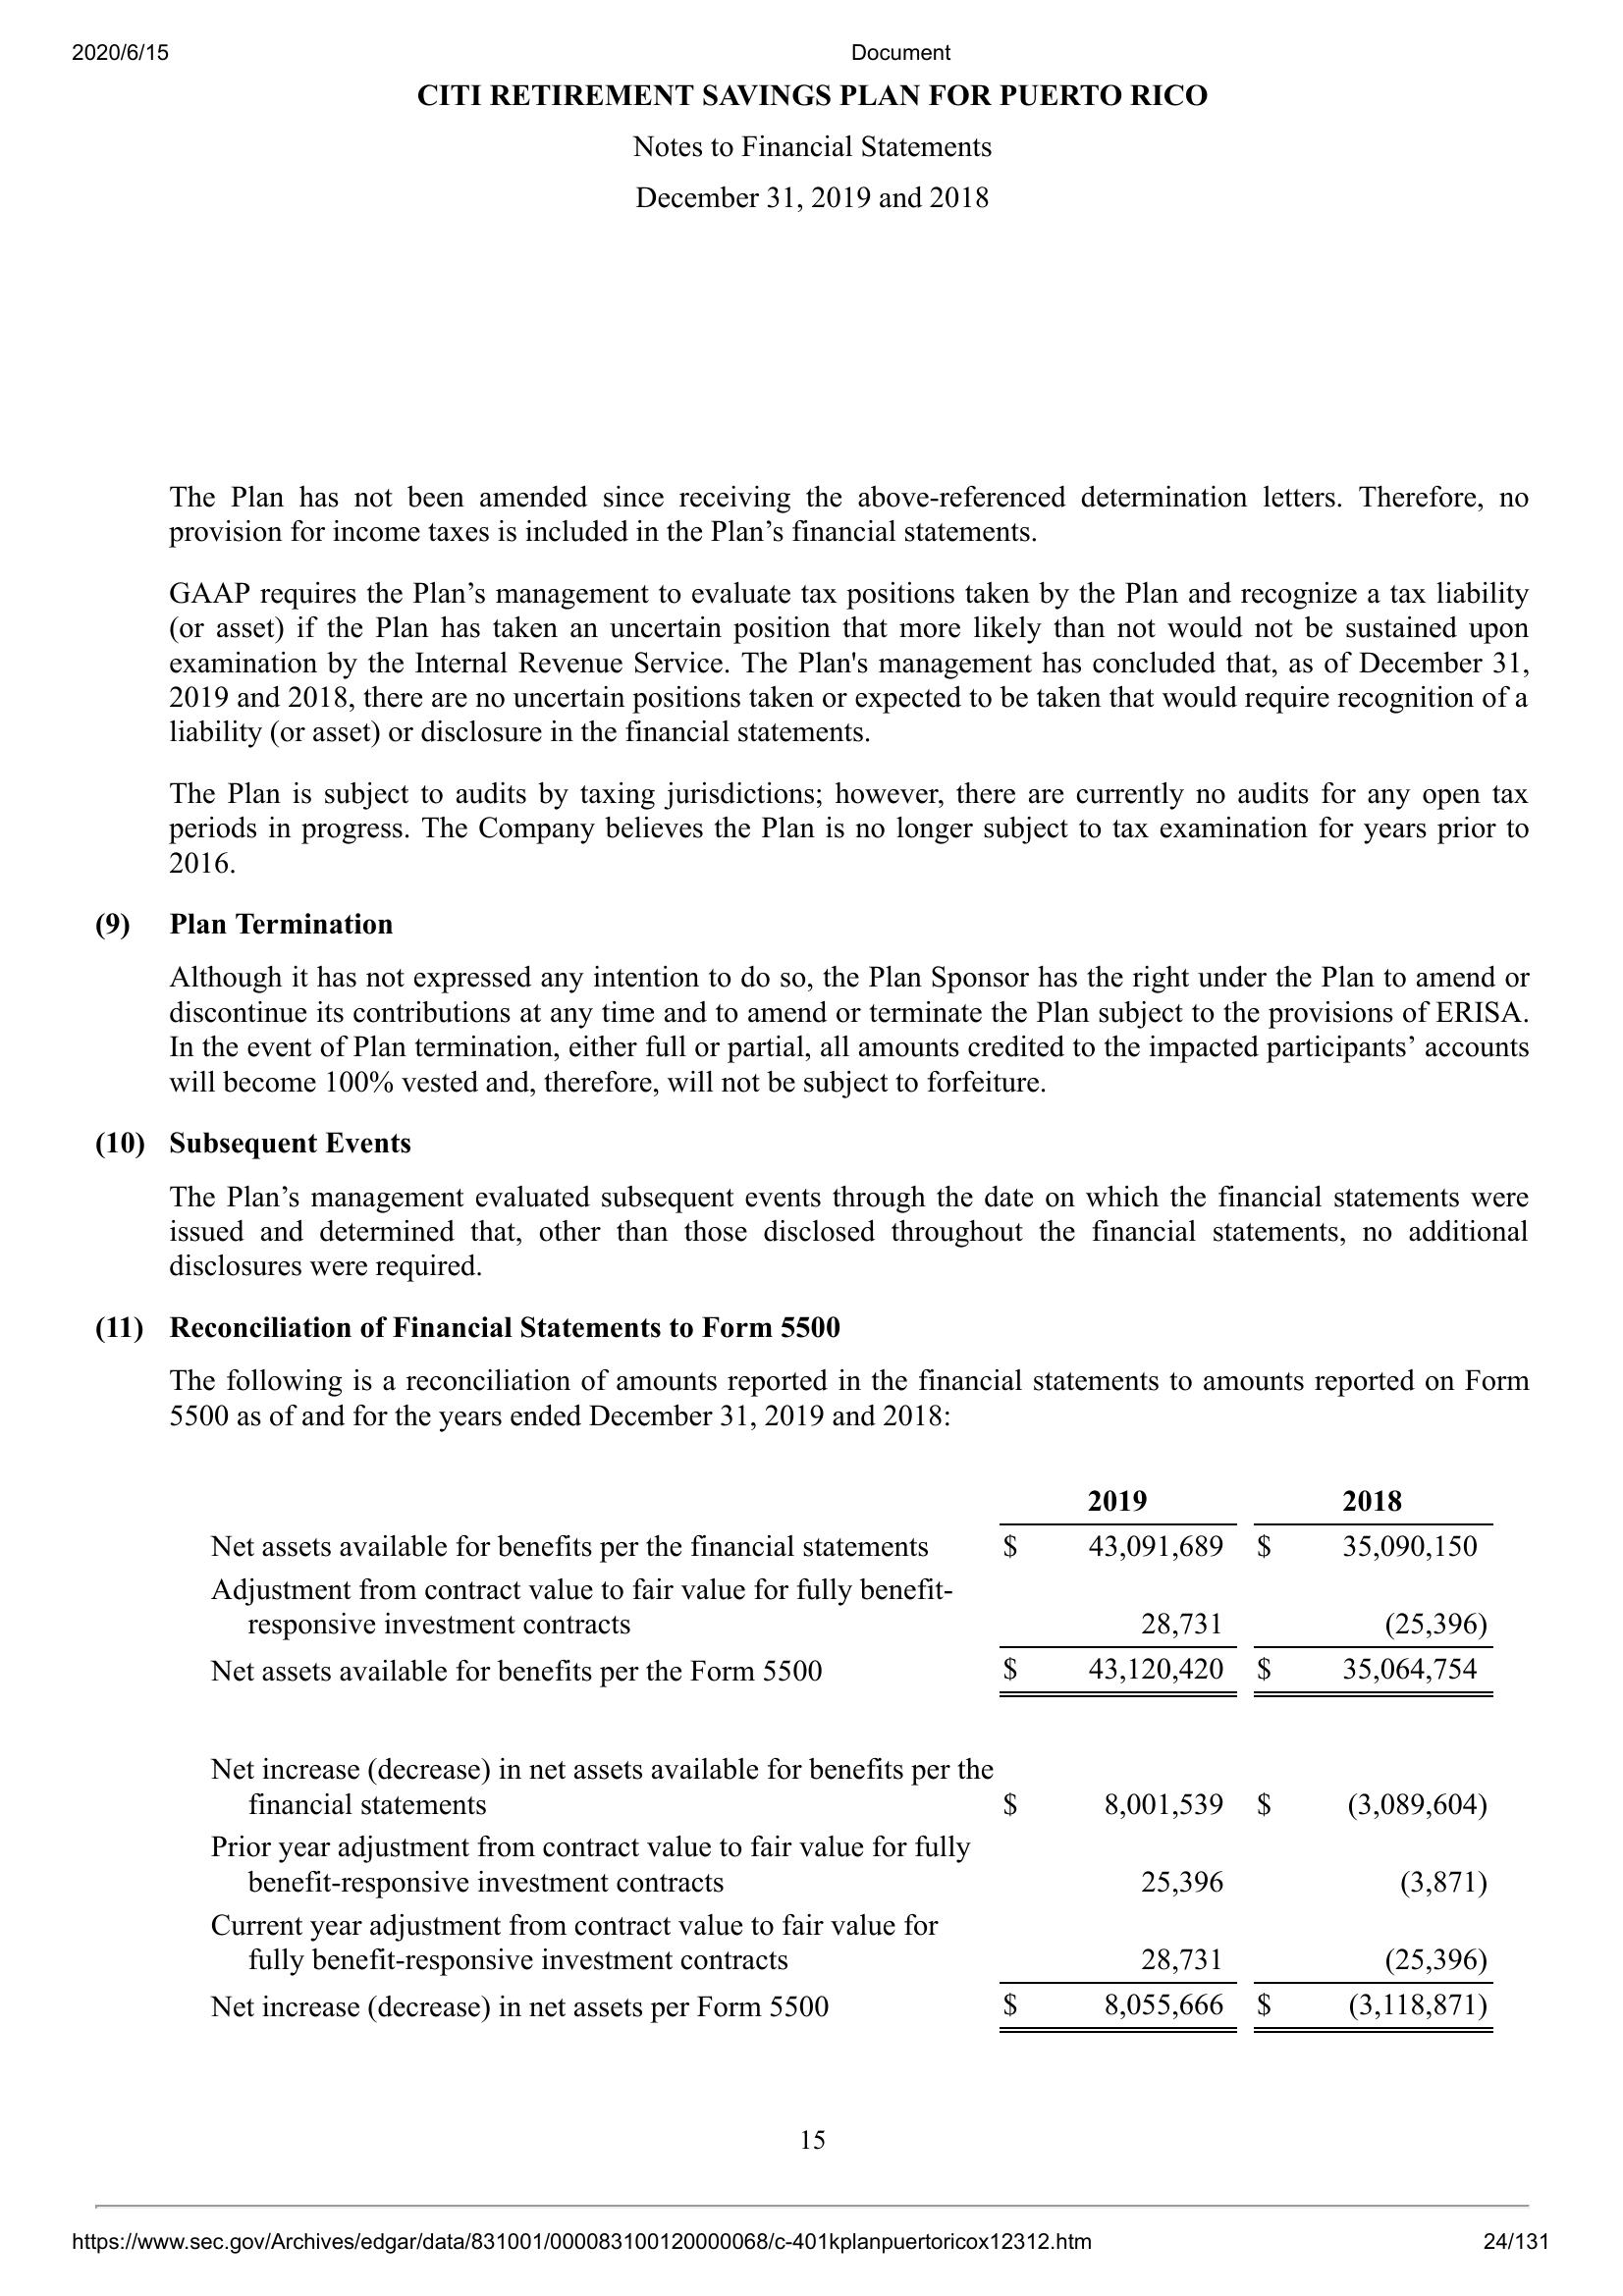table: (183, 1485, 1500, 2038)
